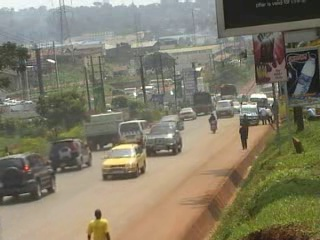Car: (0, 151, 59, 203), (99, 139, 147, 182), (49, 138, 94, 172), (143, 120, 184, 157), (160, 111, 186, 135), (178, 105, 197, 122), (229, 99, 242, 114)
Motorcycle: (205, 112, 217, 134)
